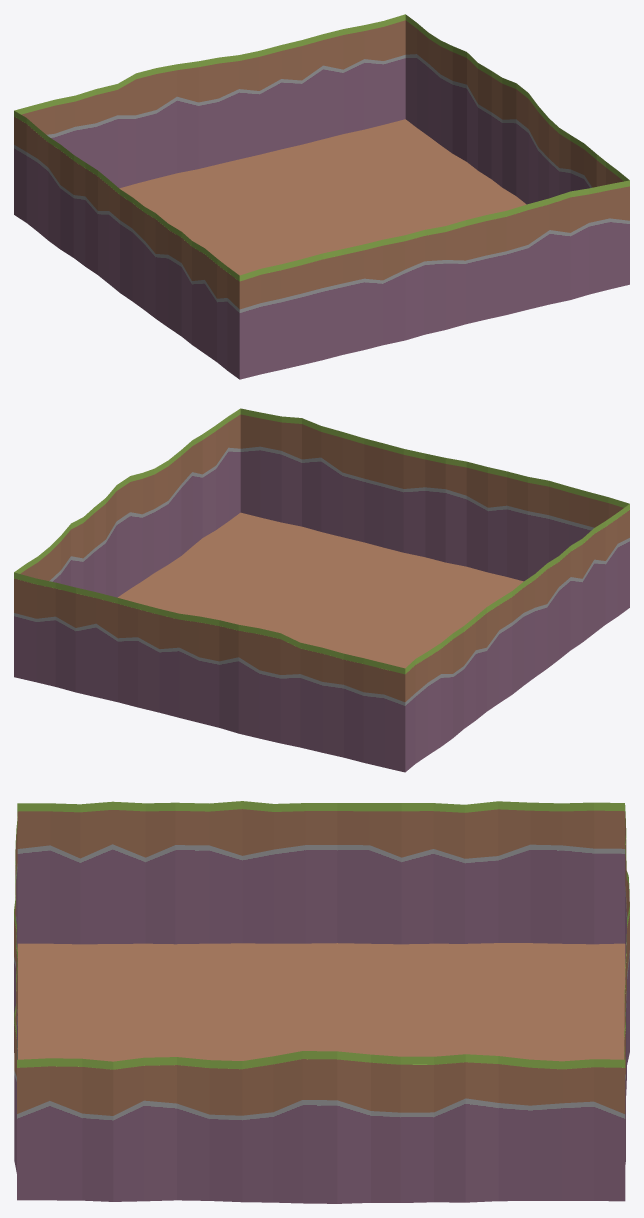
File: forestbiome-bottom.glb
3 views of the same model, one above another, from view 1: azimuth 30°, elevation 25°; view 2: azimuth 150°, elevation 25°; view 3: azimuth 270°, elevation 25° (orthographic). The views are drawn at different scales.
Visible parts, largest first — view 1: Landscape; view 2: Landscape; view 3: Landscape.
Part boxes in pixels (left/top/right/bottom): Landscape: left=14, top=14, right=629, bottom=379; Landscape: left=14, top=408, right=629, bottom=772; Landscape: left=14, top=801, right=629, bottom=1203.
Size of the model in its own units: 2 by 0.5452 by 1.99.
1 material, 1 textured.
